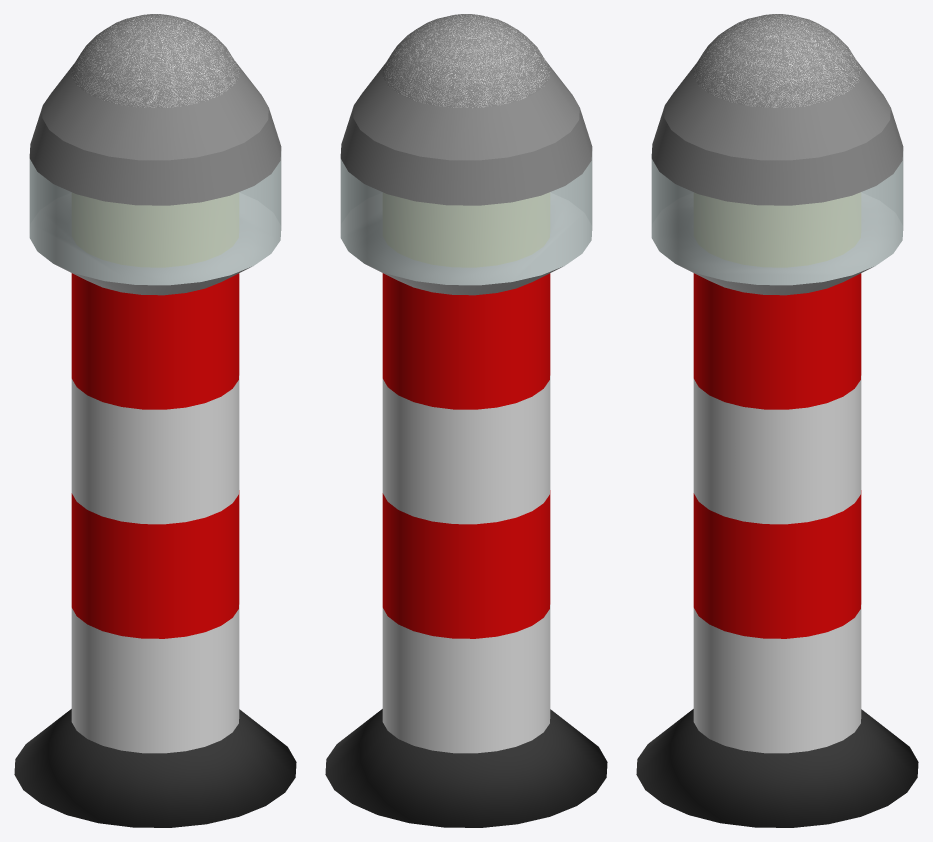
Rendered from lighthouse.dae.
3 renders of one model, left to right at view 1: azimuth 30°, elevation 25°; view 2: azimuth 150°, elevation 25°; view 3: azimuth 270°, elevation 25°, orthographic.
Parts seen in each view (by area): view 1: SketchUp (×8); view 2: SketchUp (×8); view 3: SketchUp (×8).
Boxes of the visible parts, x1,y1,x2,y2 form: SketchUp (×8): (14,14,296,827); SketchUp (×8): (325,14,607,827); SketchUp (×8): (636,14,918,827).
Size of the model in its own units: 868 by 868 by 2533.
